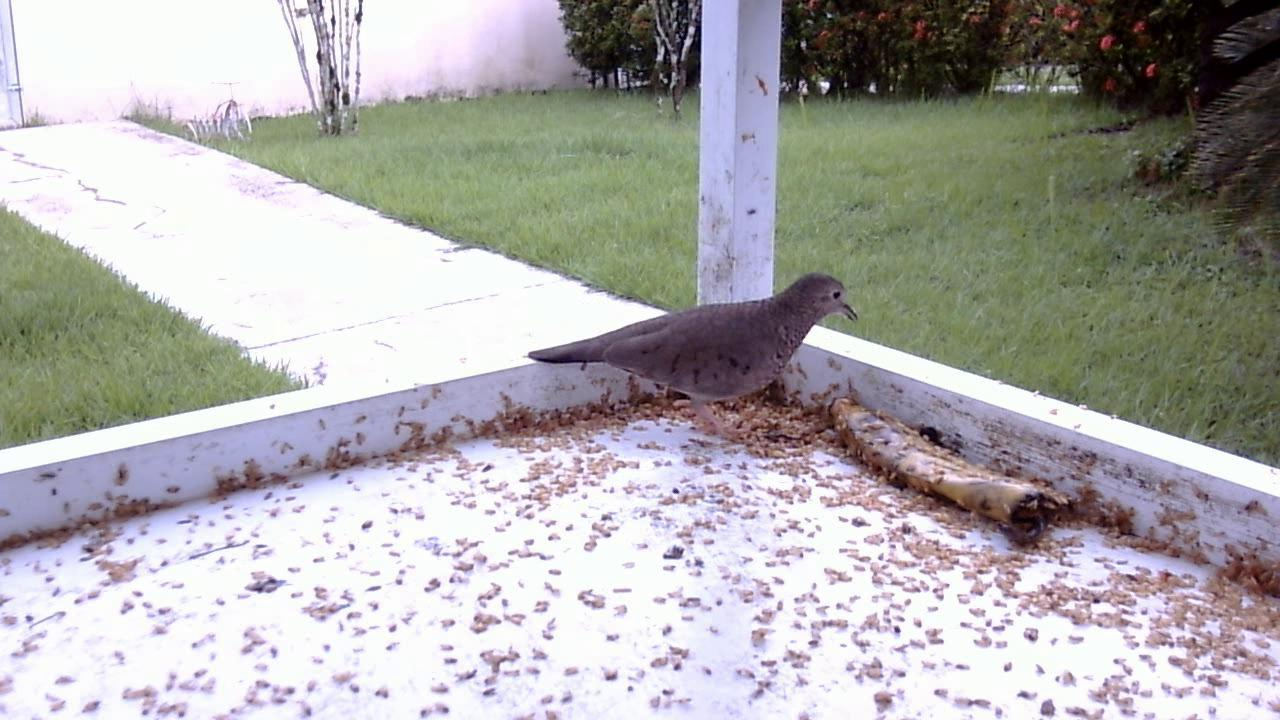rolinha: (524, 266, 851, 426)
